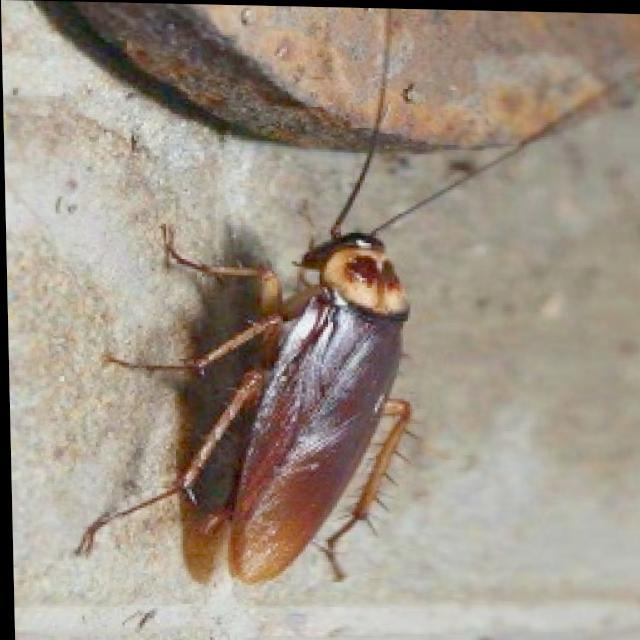cockroach: (100, 170, 502, 586)
